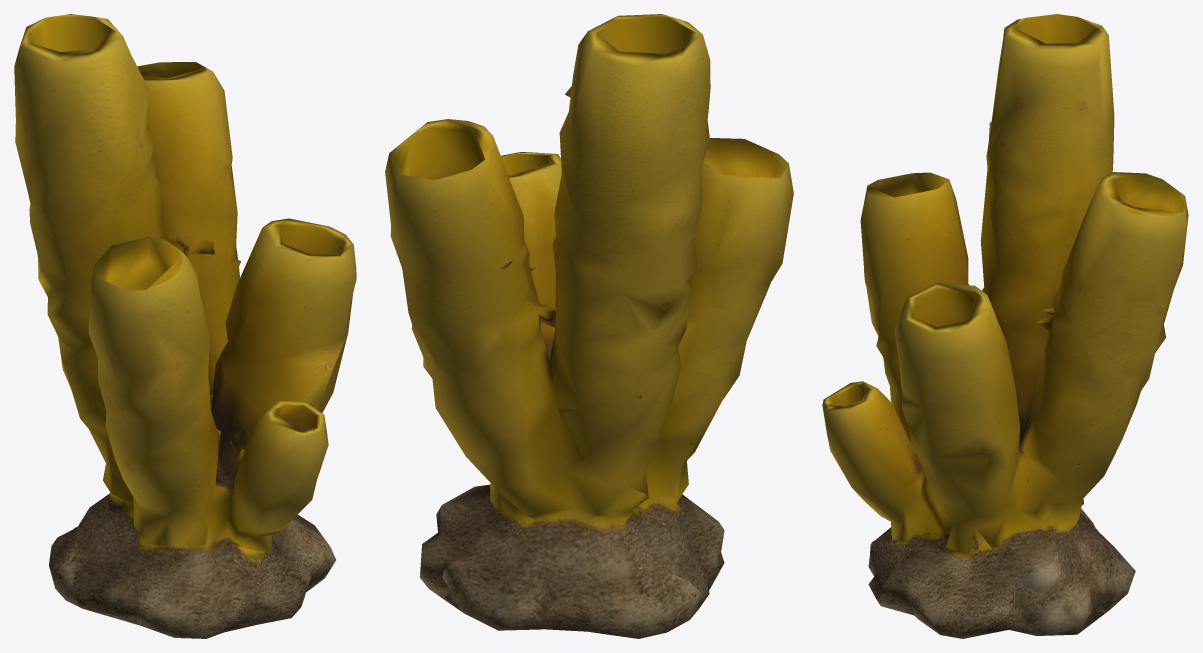
Rendered from buisspons.glb.
The picture shows the model from 3 angles, left to right: view 1: azimuth 30°, elevation 25°; view 2: azimuth 150°, elevation 25°; view 3: azimuth 270°, elevation 25°; orthographic projection. The views are drawn at different scales.
Visible parts, largest first — view 1: tripo_node_6684a1cb-663f-4857-a1f9-233c13b3b580; view 2: tripo_node_6684a1cb-663f-4857-a1f9-233c13b3b580; view 3: tripo_node_6684a1cb-663f-4857-a1f9-233c13b3b580.
Boxes of the visible parts, x1,y1,x2,y2 form: tripo_node_6684a1cb-663f-4857-a1f9-233c13b3b580: (14, 14, 356, 638); tripo_node_6684a1cb-663f-4857-a1f9-233c13b3b580: (385, 14, 793, 638); tripo_node_6684a1cb-663f-4857-a1f9-233c13b3b580: (822, 14, 1188, 638).
Bounding box in the file's own units: 0.0941 × 0.18 × 0.1148.
Materials: 1 (1 with a texture image).
